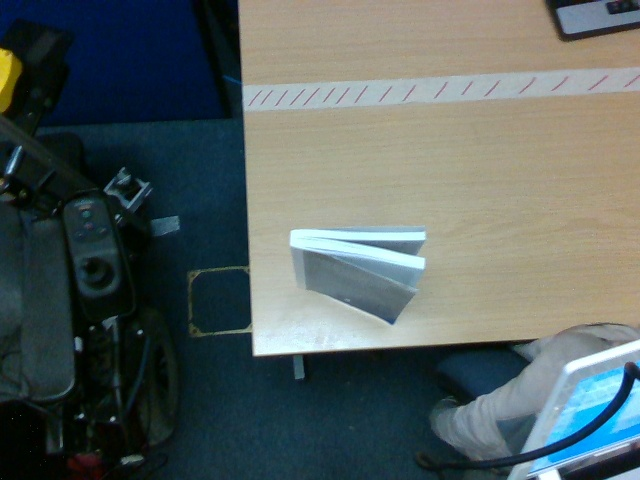book: (290, 224, 425, 325)
